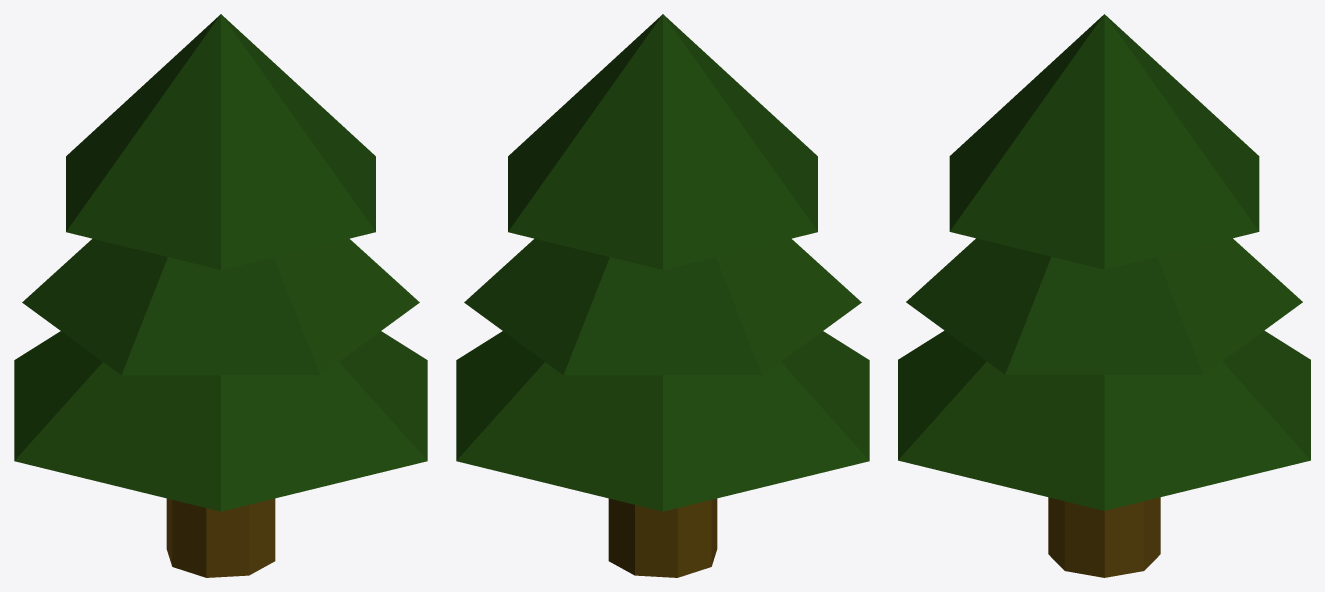
Rendered from tree.dae.
3 views of the same model, side by side, from view 1: azimuth 30°, elevation 25°; view 2: azimuth 150°, elevation 25°; view 3: azimuth 270°, elevation 25° (orthographic).
Visible parts, largest first — view 1: ポリゴンメッシュ (×4); view 2: ポリゴンメッシュ (×4); view 3: ポリゴンメッシュ (×4).
Part boxes in pixels (x1,y1,x2,y2): ポリゴンメッシュ (×4): (14,14,427,577); ポリゴンメッシュ (×4): (456,14,869,577); ポリゴンメッシュ (×4): (898,14,1310,577).
Size of the model in its own units: 120 by 150 by 104.
Materials: 4 (4 with a texture image).
